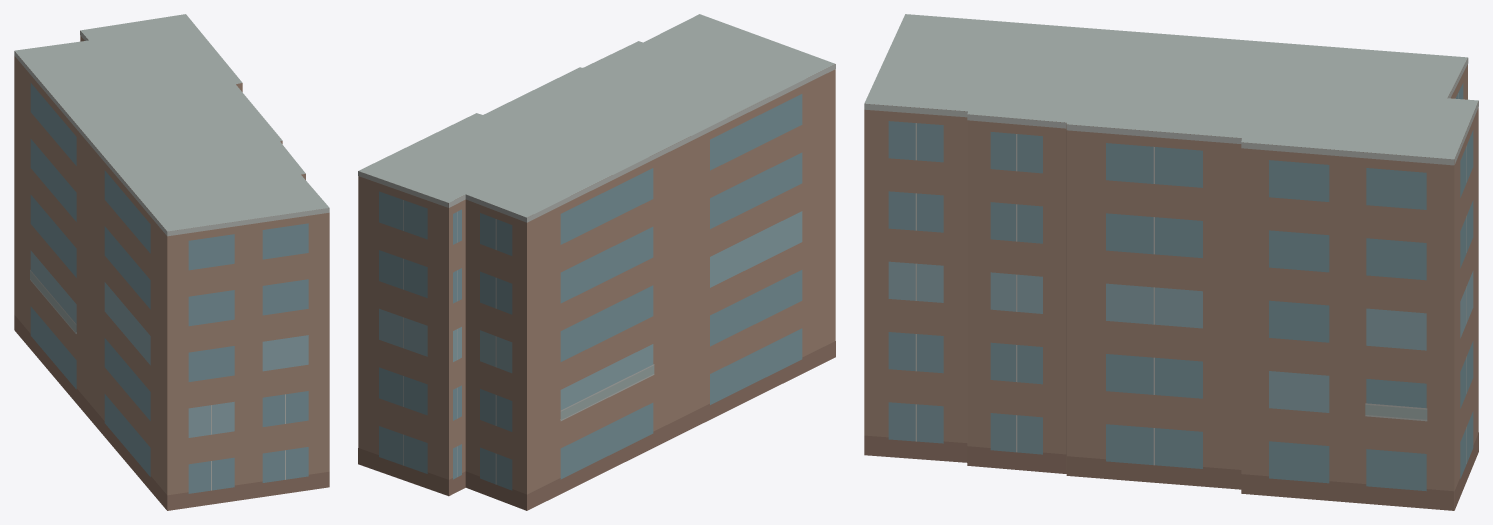
The model's file is survey-upis-32773736.glb.
3 renders of one model, left to right at view 1: azimuth 30°, elevation 25°; view 2: azimuth 150°, elevation 25°; view 3: azimuth 270°, elevation 25°, orthographic. The views are drawn at different scales.
Parts seen in each view (by area): view 1: survey-upis-32773736.tmp; view 2: survey-upis-32773736.tmp; view 3: survey-upis-32773736.tmp.
Boxes of the visible parts, x1=… form: survey-upis-32773736.tmp: x1=14, y1=14, x2=329, y2=510; survey-upis-32773736.tmp: x1=358, y1=14, x2=835, y2=510; survey-upis-32773736.tmp: x1=864, y1=14, x2=1478, y2=510.
Size of the model in its own units: 12.61 by 14.2 by 22.51.
